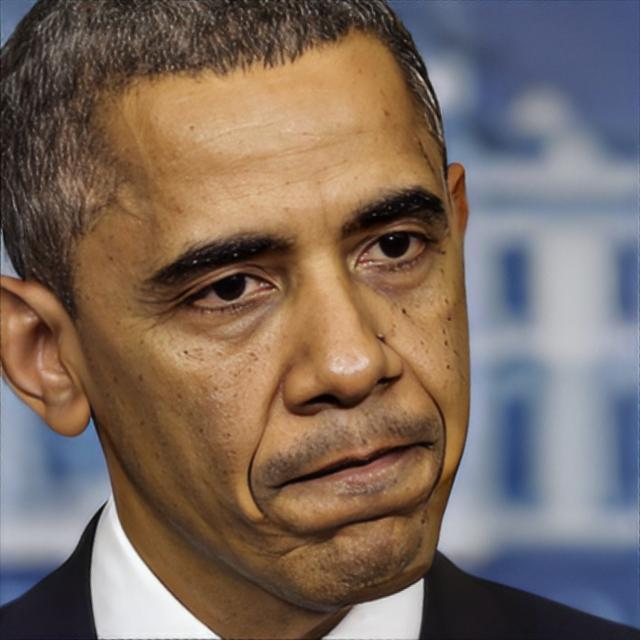sad: (85, 46, 478, 606)
